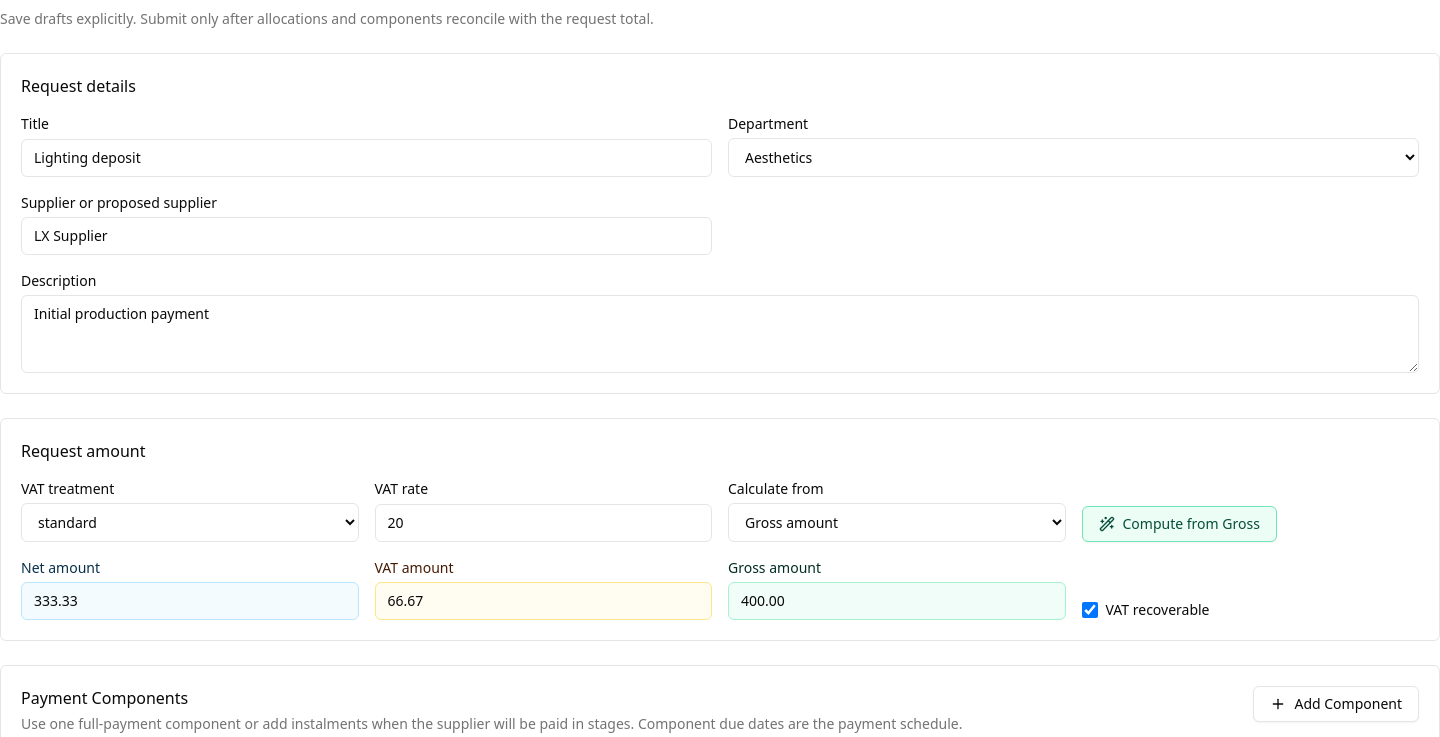
Test: Stage 5 spending request panels › does not crash when computing one component in the reported three-component split
Click the button "Add Component".
click(1336, 704)  # box left=1253, top=686, right=1419, bottom=722
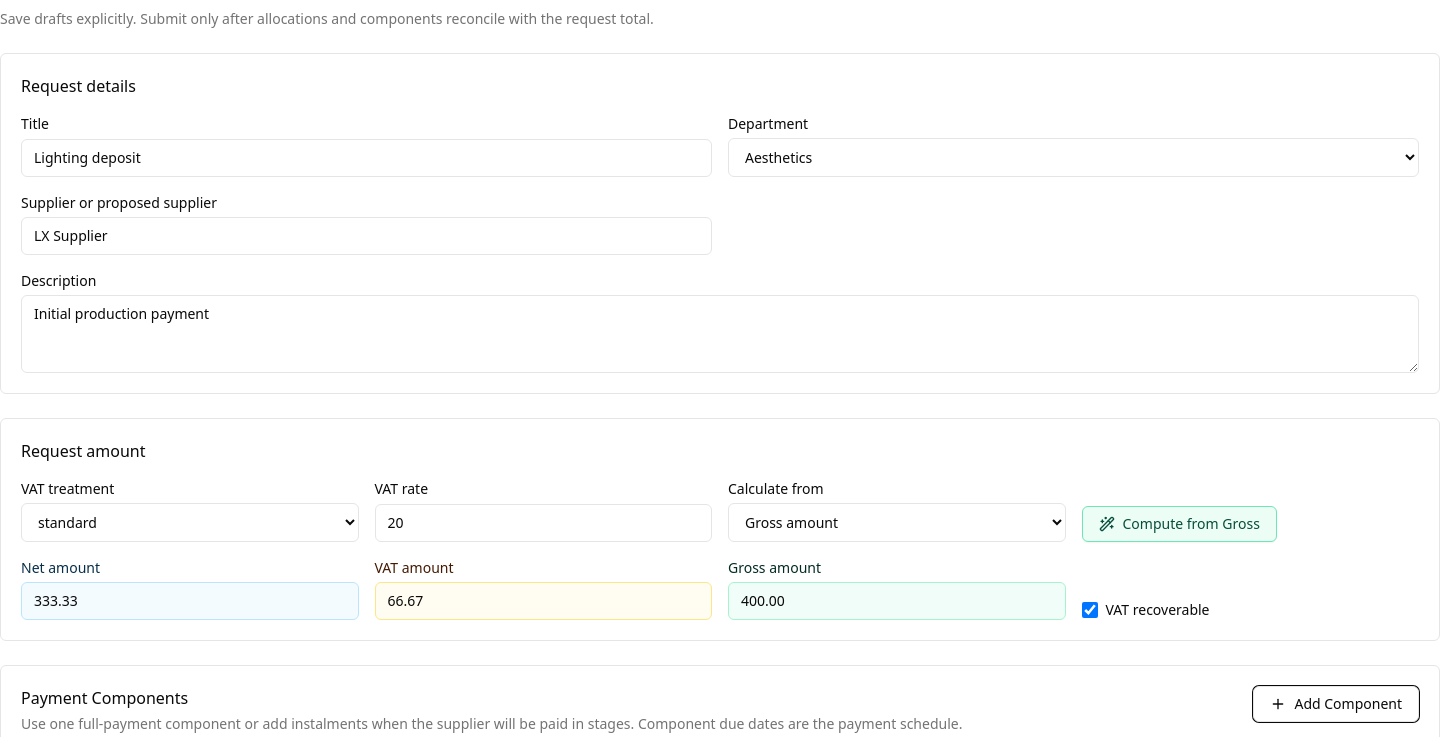
Click the button "Add Component".
click(1336, 704)  # box left=1253, top=686, right=1419, bottom=722
(page scrolled)
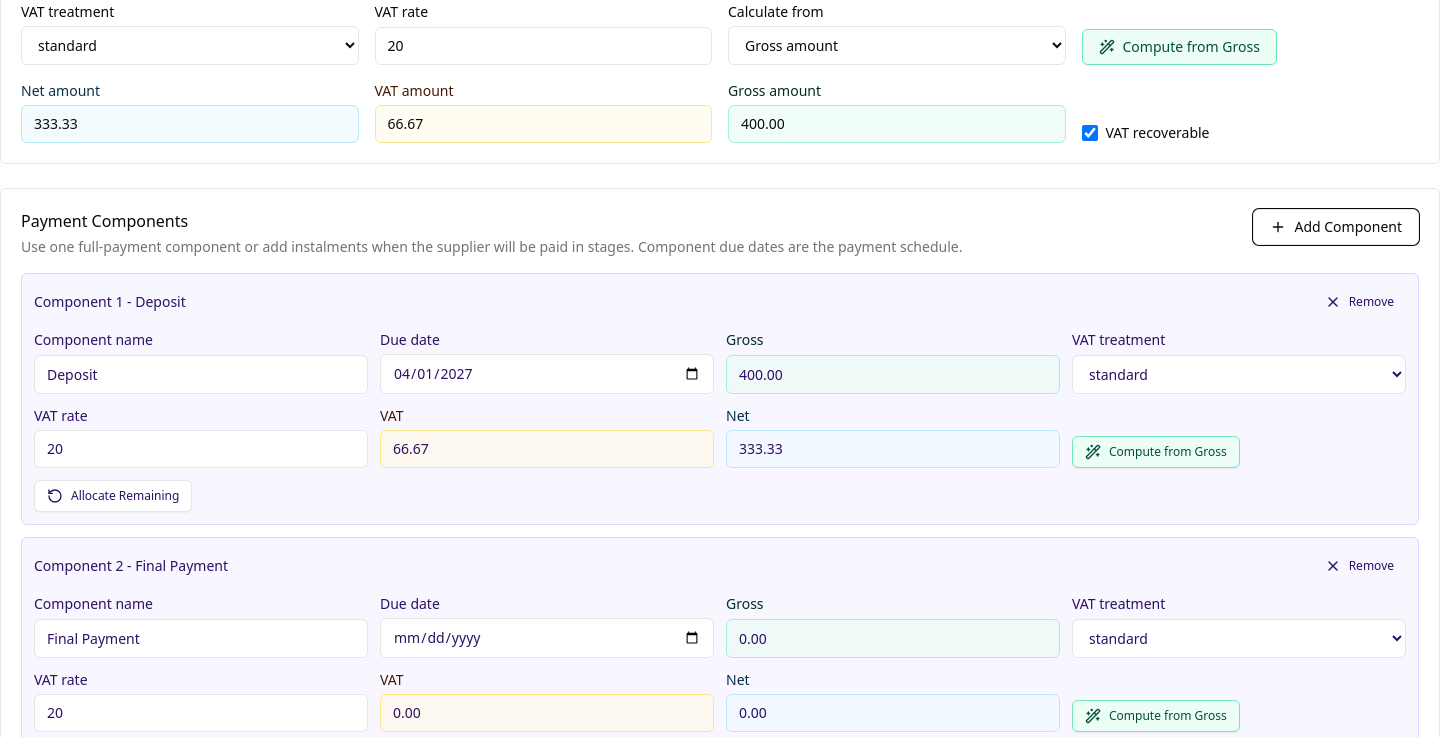
Replace the text in the 1st field labelled "Gross" with "100.00" at x=893, y=374, box left=726, top=355, right=1060, bottom=394
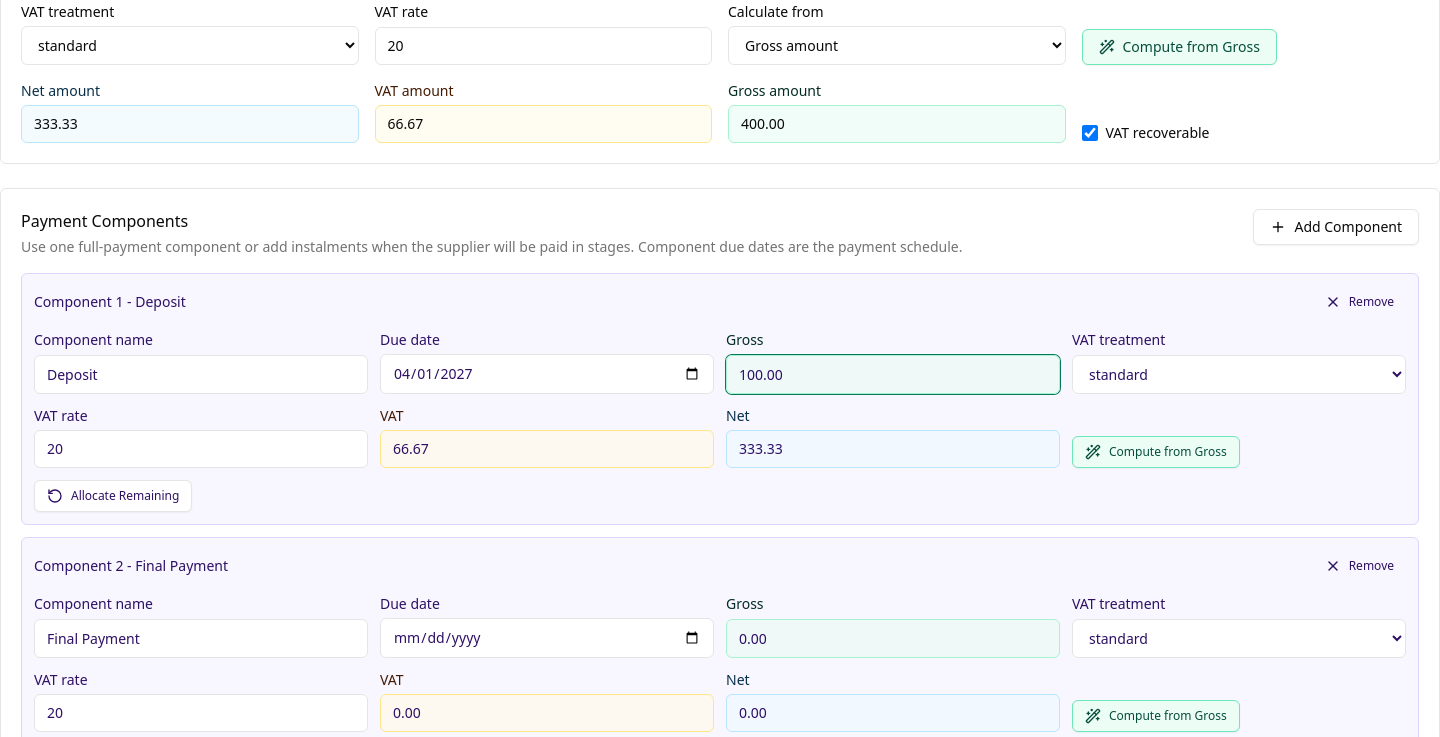
Replace the text in the 2nd field labelled "Gross" with "200.00" at x=893, y=638, box left=726, top=619, right=1060, bottom=658
(page scrolled)
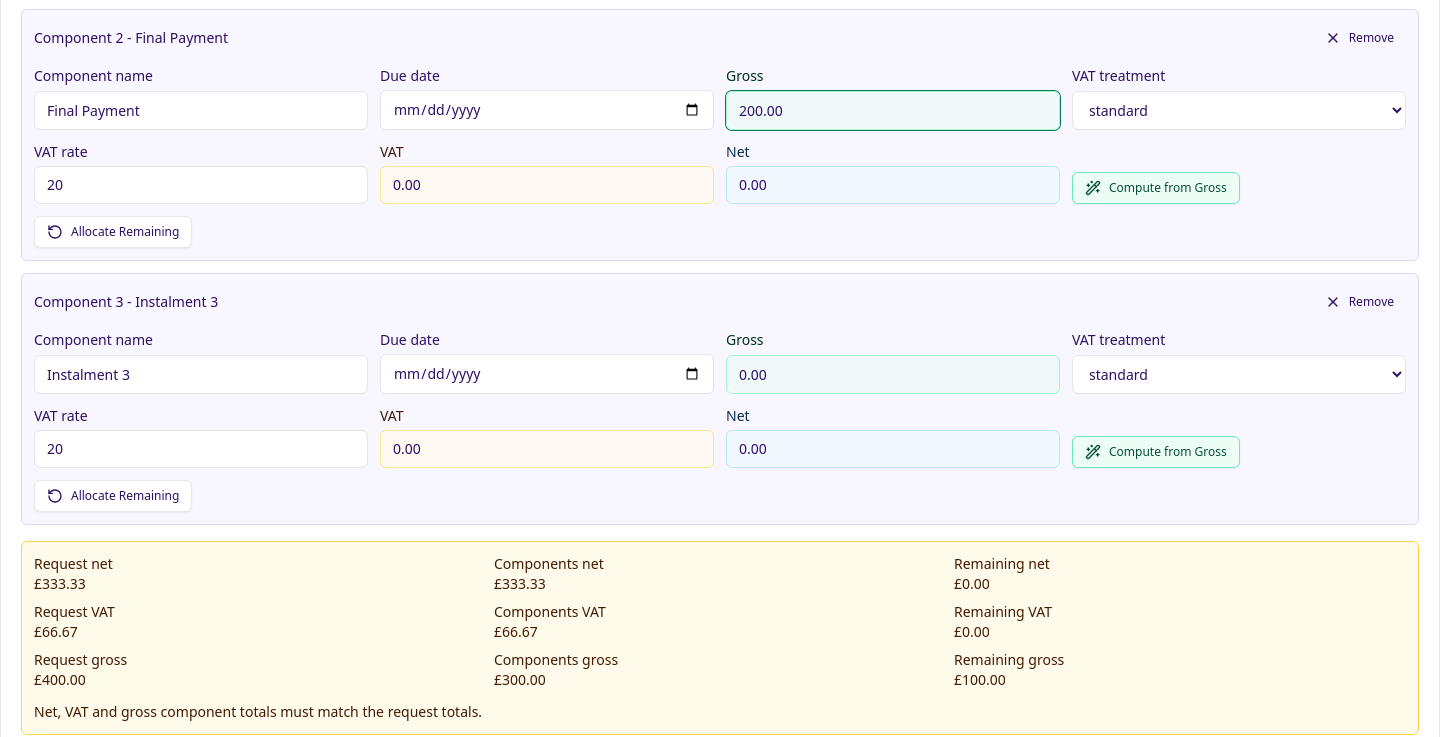
Replace the text in the 2nd field labelled "Gross" with "100.00" at x=893, y=374, box left=726, top=355, right=1060, bottom=394
(page scrolled)
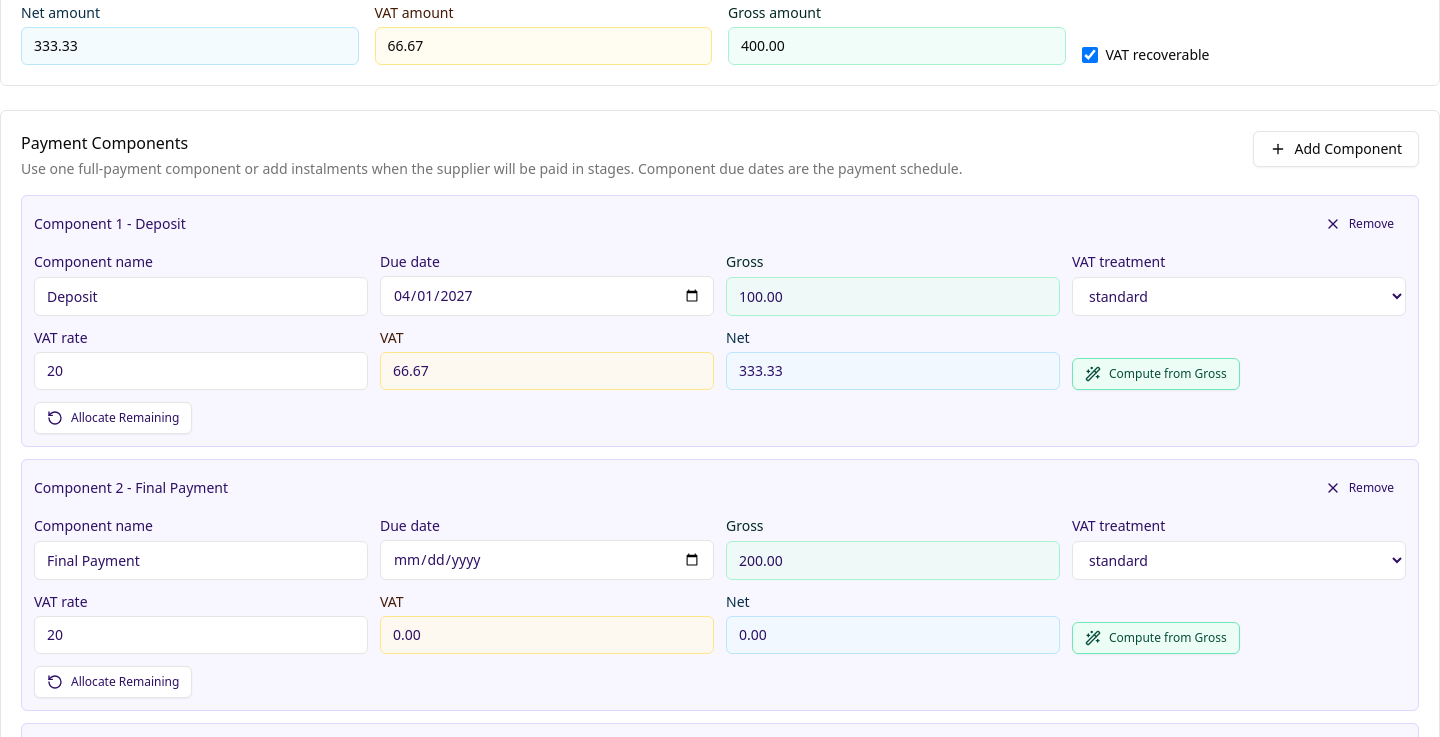
Click the 2nd button "Compute from Gross".
click(1156, 374)  # box left=1072, top=358, right=1240, bottom=390
(page scrolled)
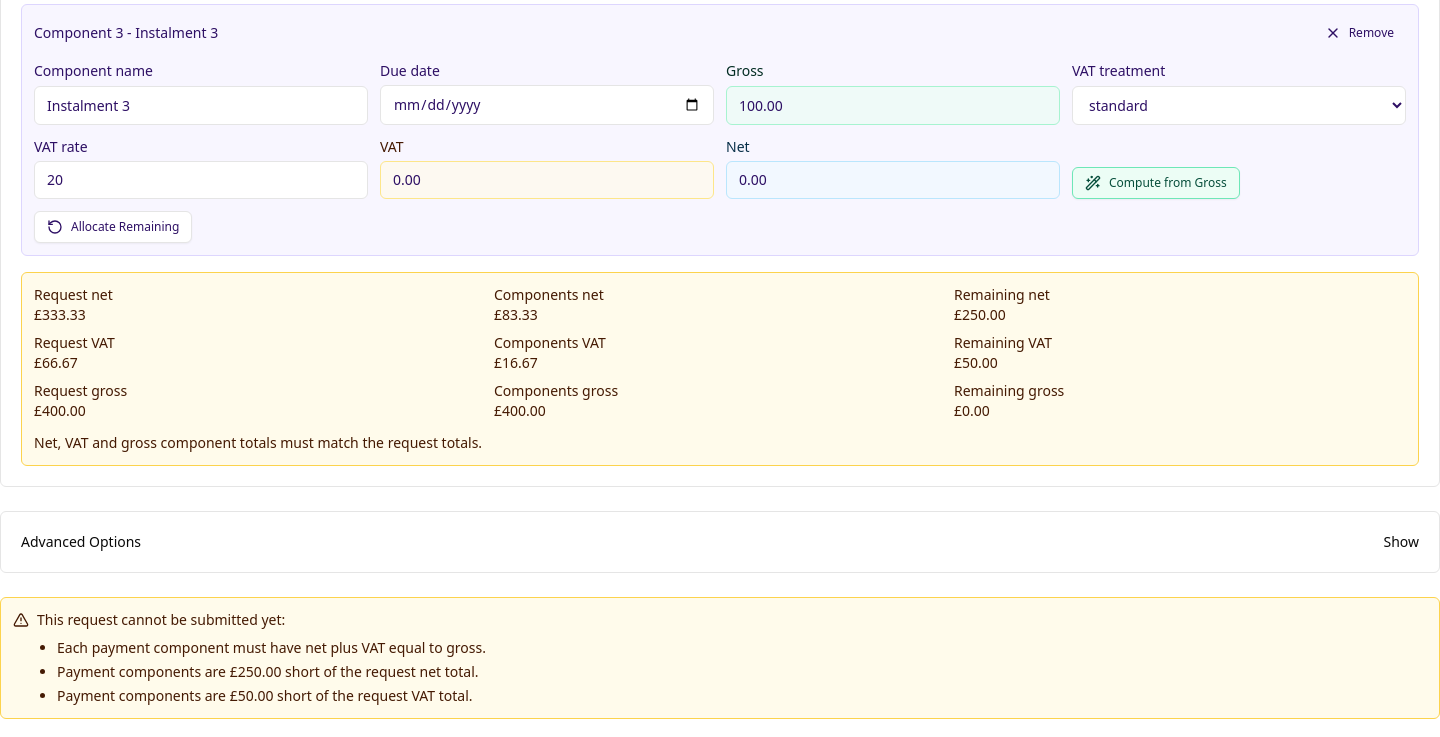
Now the text "Net, VAT and gross component totals must match the request totals." is shown, box left=34, top=433, right=482, bottom=452
